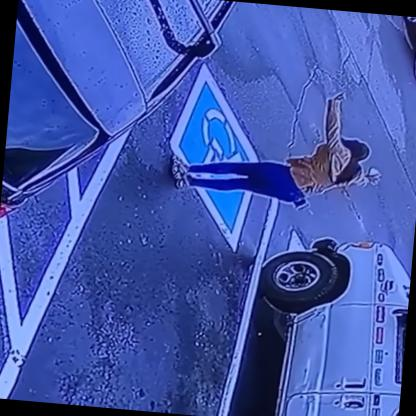Human Body: (168, 81, 384, 212)
